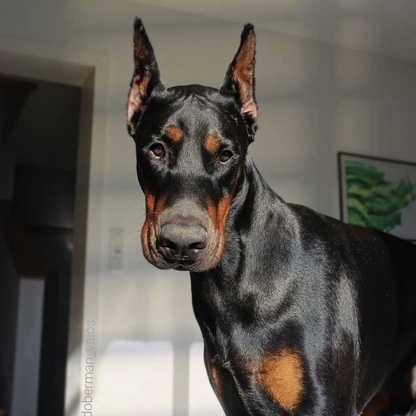doberman: (121, 13, 416, 408)
